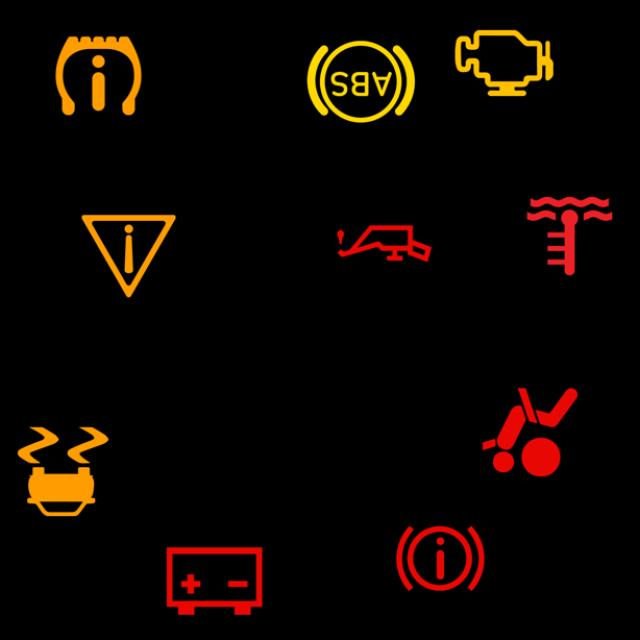Anti Lock Braking System: (302, 23, 420, 141)
Braking System Issue: (382, 499, 499, 617)
Charging System Issue: (155, 522, 273, 640)
Check Engine: (445, 4, 563, 122)
Electronic Stability Problem -ESP-: (4, 412, 122, 530)
Engine Overheating Warning Light: (511, 177, 628, 295)
Low Engine Oil Warning Light: (325, 185, 443, 302)
Low Tire Pressure Warning Light: (39, 16, 158, 134)
Master warning light: (70, 197, 188, 315)
SRS-Airbag: (471, 373, 589, 491)
